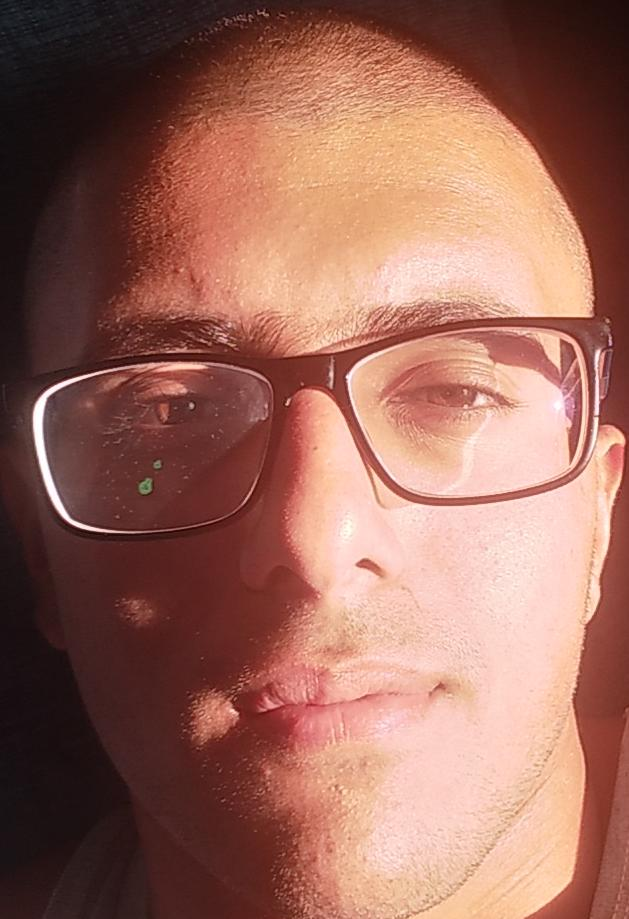face: (12, 13, 618, 907)
